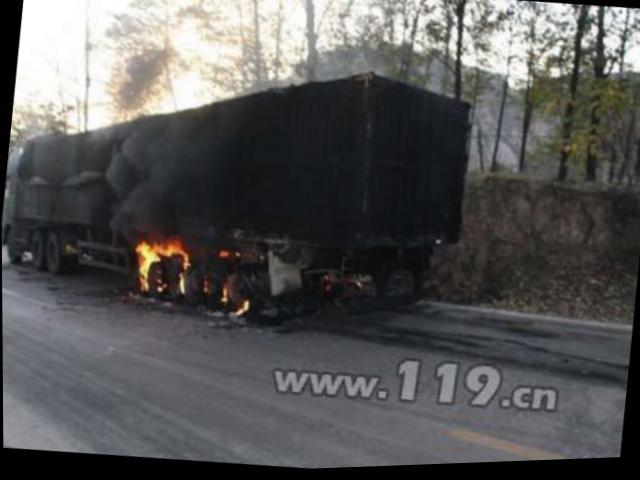fire: (129, 241, 150, 289), (147, 236, 177, 262), (173, 252, 189, 289)
